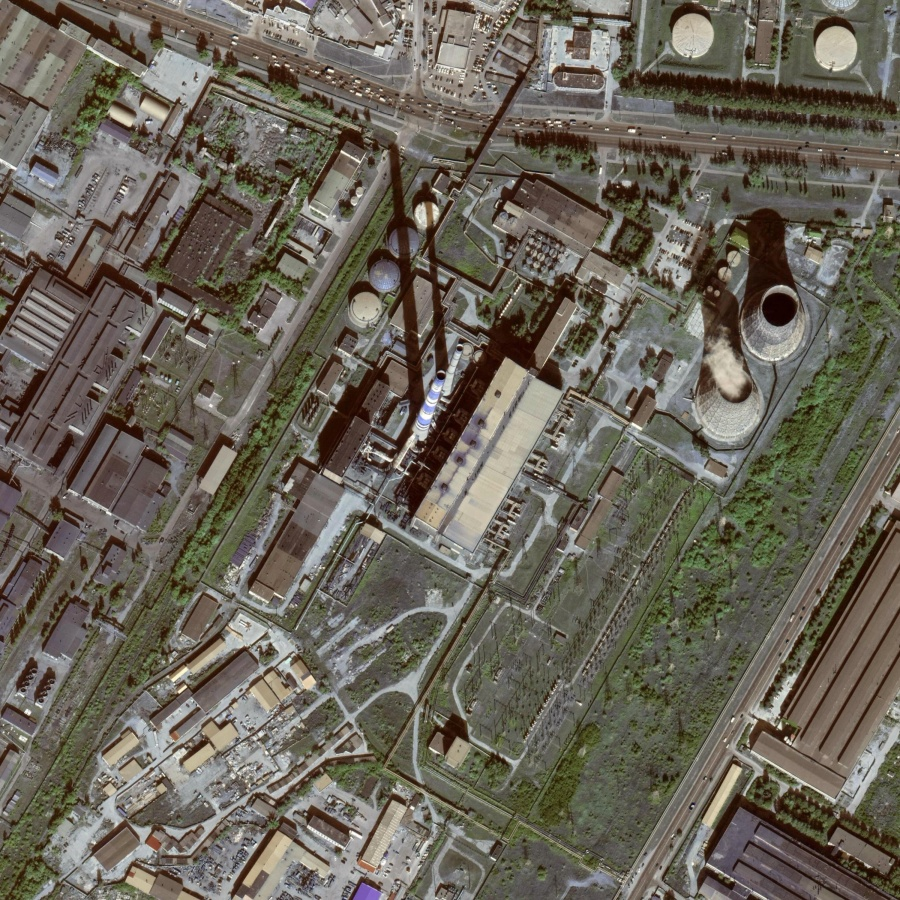PowerPlant: (330, 105, 819, 482)
